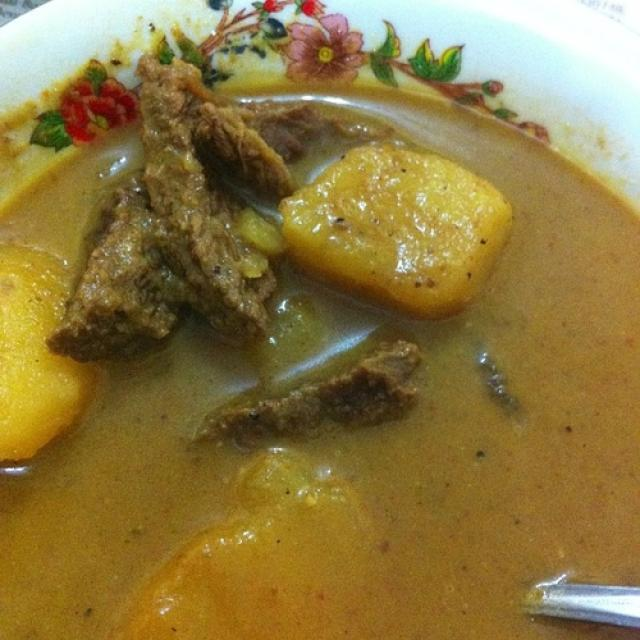熟制海鲜: (12, 16, 634, 618)
